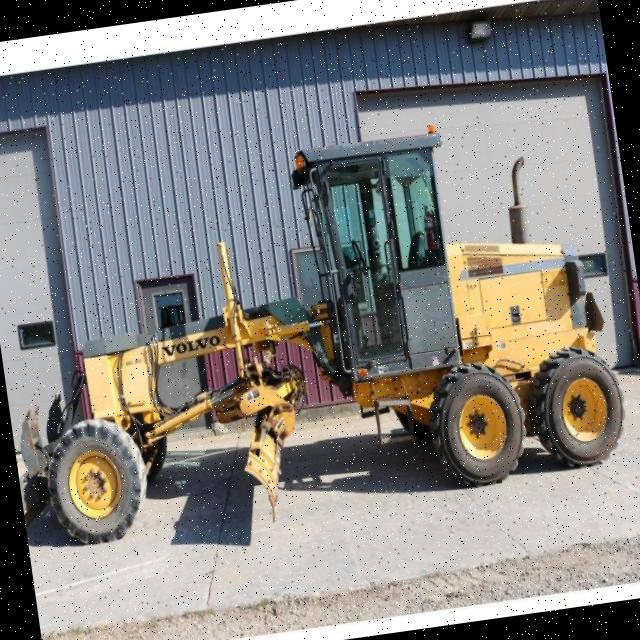Grader: (0, 105, 625, 558)
